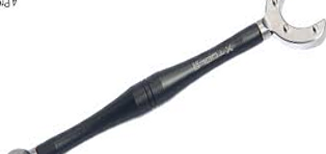wrench: (7, 1, 326, 152)
